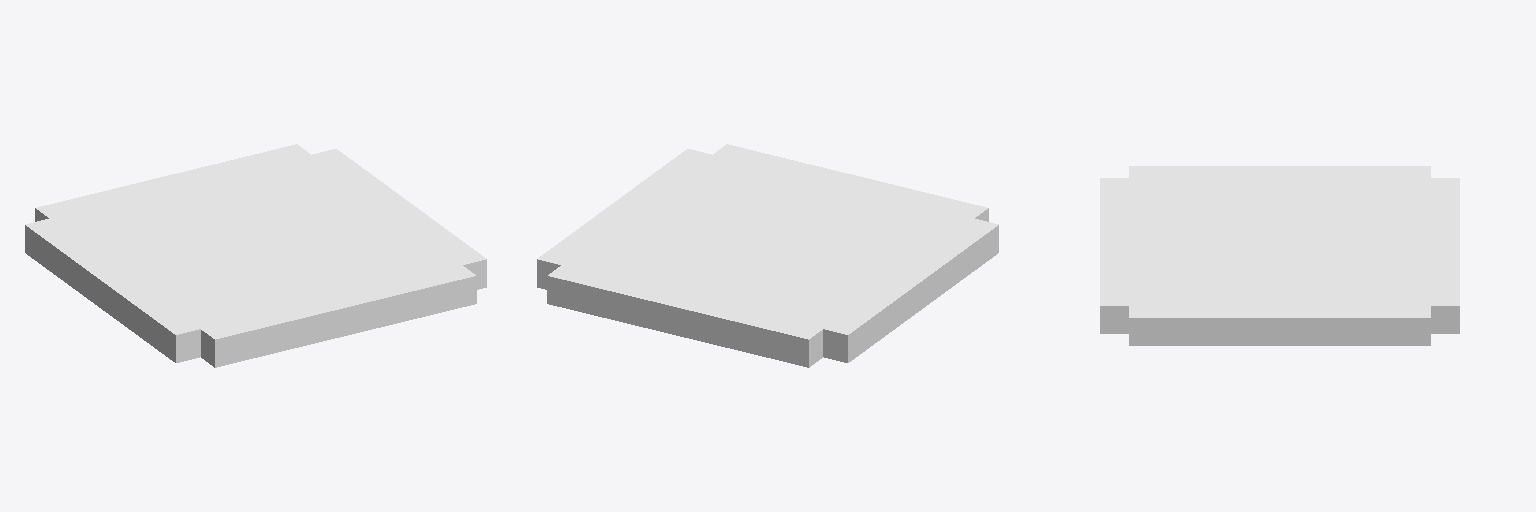
The model's file is Coin.obj.
3 renders of one model, left to right at view 1: azimuth 30°, elevation 25°; view 2: azimuth 150°, elevation 25°; view 3: azimuth 270°, elevation 25°, orthographic.
Parts seen in each view (by area): view 1: Cube.003_Cube.005; view 2: Cube.003_Cube.005; view 3: Cube.003_Cube.005.
Part boxes in pixels (bbox=[...]): Cube.003_Cube.005: bbox=[25, 144, 486, 367]; Cube.003_Cube.005: bbox=[537, 144, 998, 367]; Cube.003_Cube.005: bbox=[1100, 166, 1459, 345].
Size of the model in its own units: 2 by 0.1731 by 2.